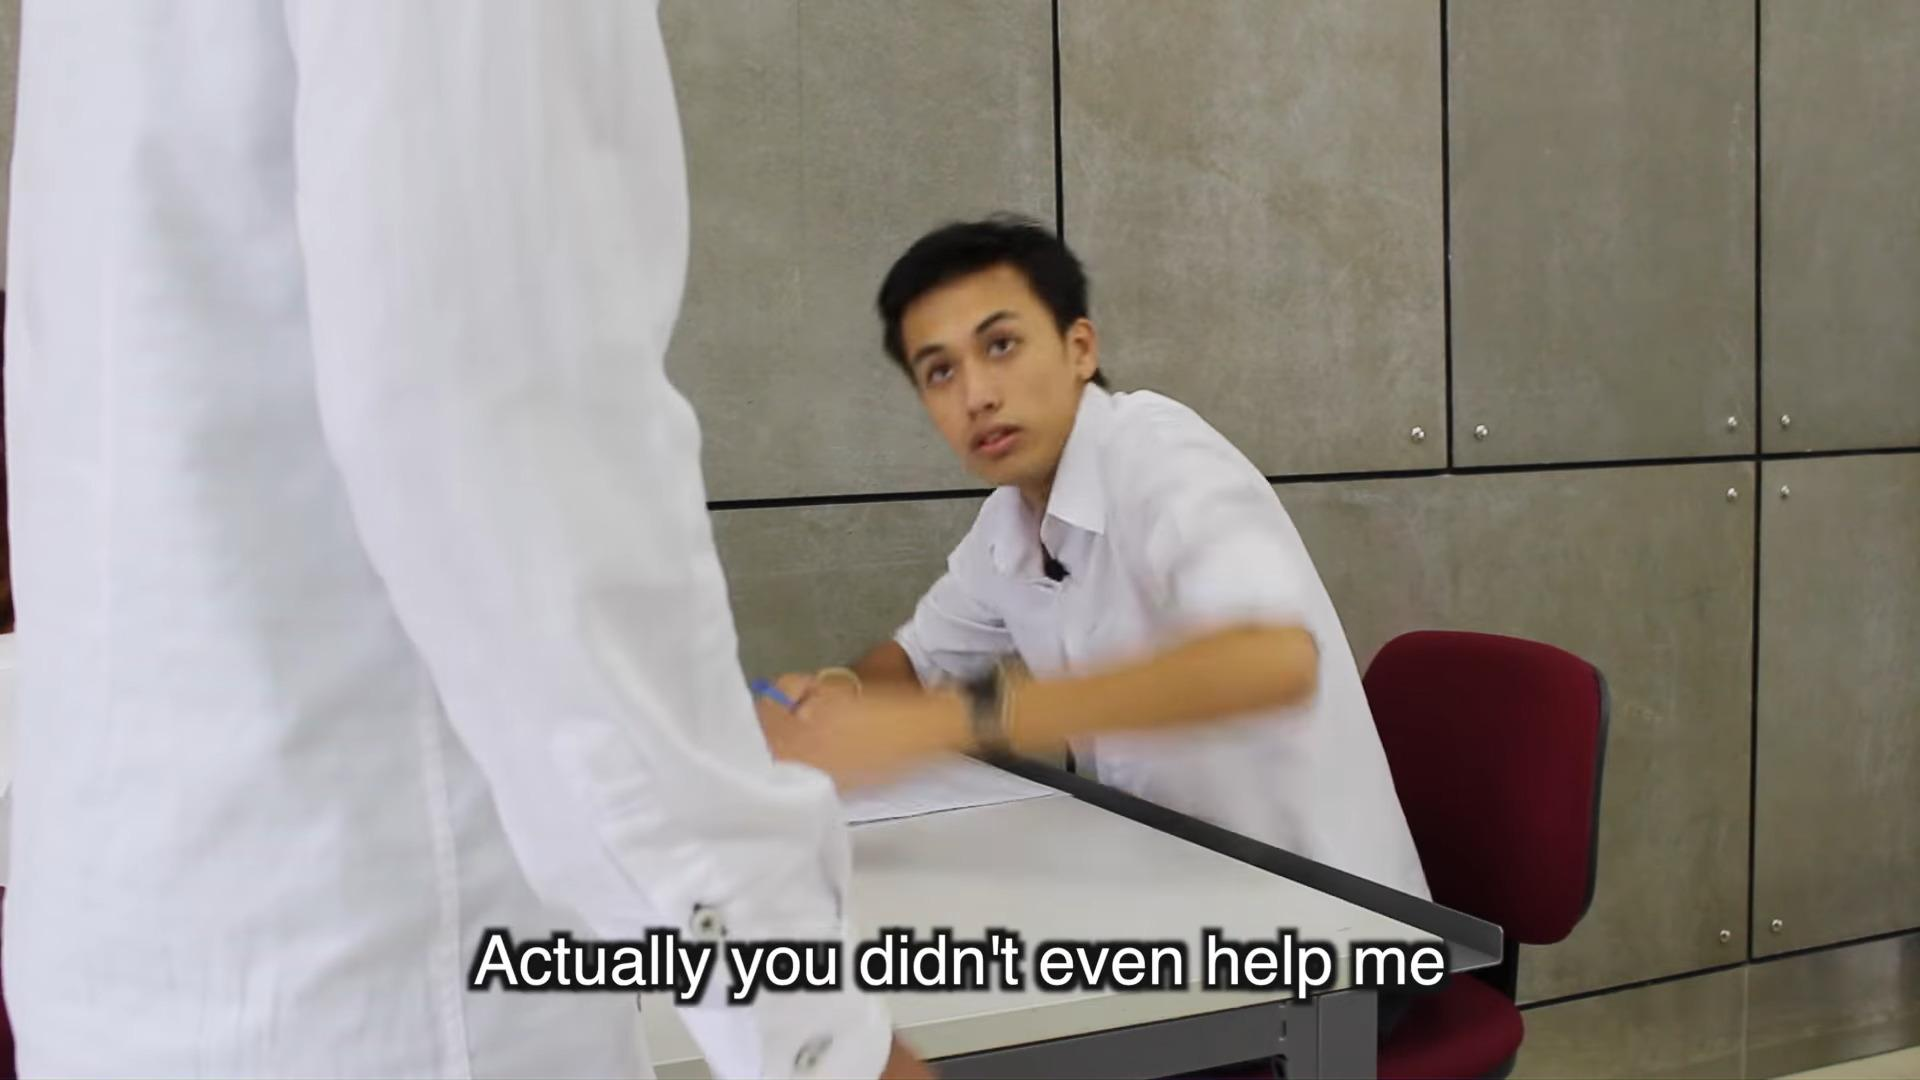cheating: (705, 186, 1473, 927)
